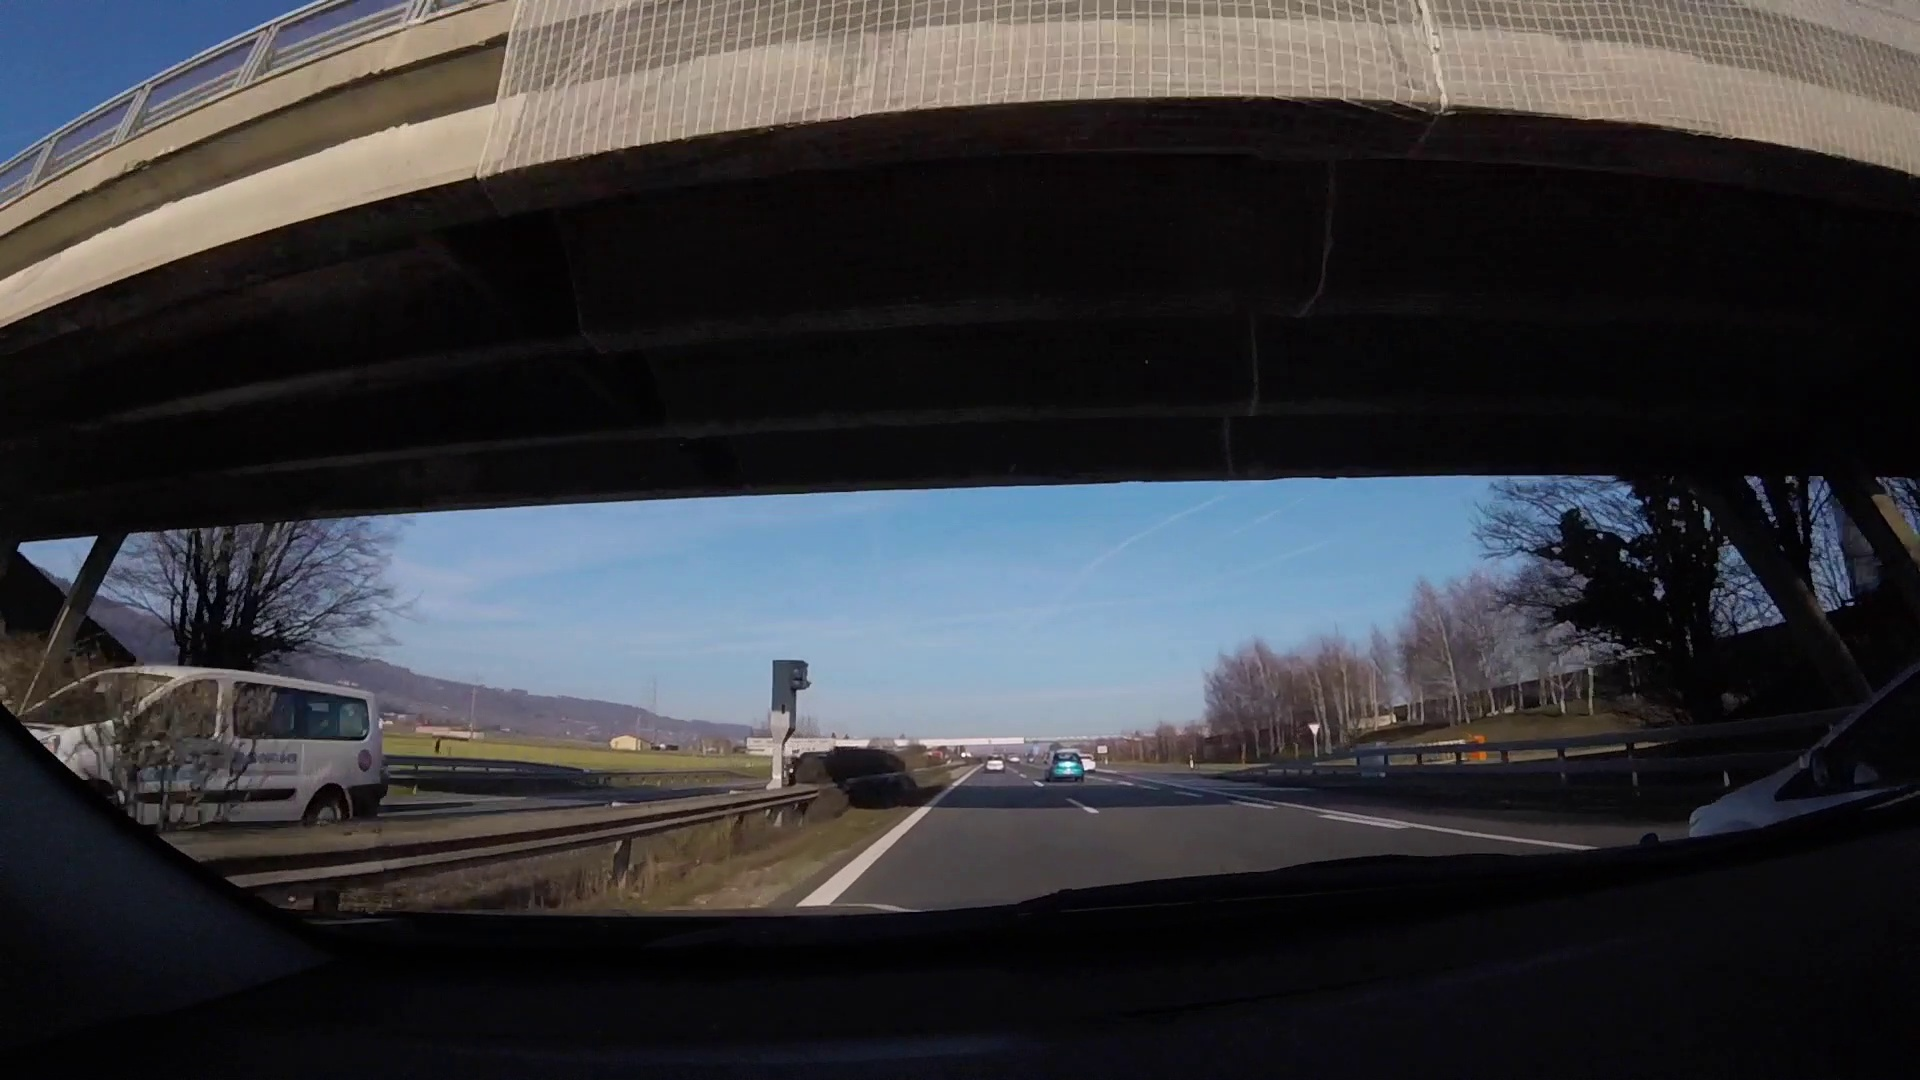radar: (770, 658, 814, 779)
